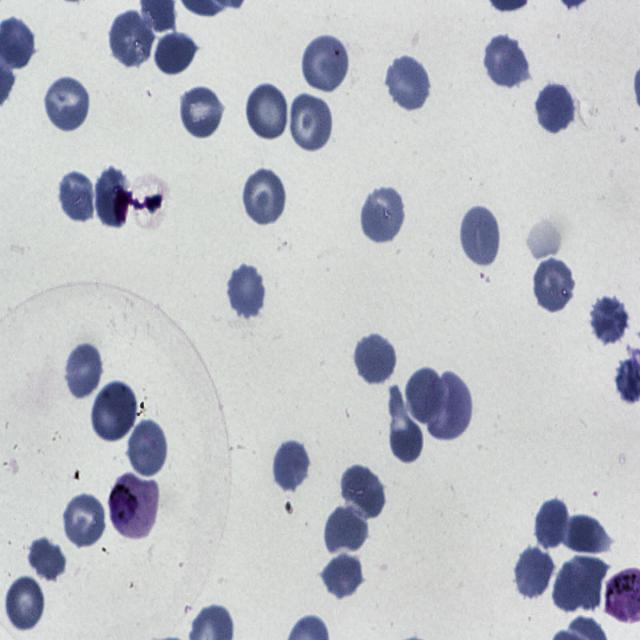red blood cell: (424, 372, 474, 443), (552, 556, 609, 613), (301, 31, 352, 94), (287, 90, 335, 154), (359, 182, 406, 246), (91, 380, 138, 444), (108, 8, 156, 70), (241, 164, 288, 227), (458, 202, 502, 269), (43, 73, 91, 134), (244, 80, 290, 142), (177, 82, 226, 140), (482, 33, 531, 91), (339, 463, 387, 522), (385, 54, 432, 113), (92, 164, 132, 231), (62, 490, 107, 549), (389, 388, 424, 463), (404, 365, 446, 427), (532, 256, 576, 315), (352, 331, 398, 387), (63, 340, 105, 401), (127, 419, 169, 479), (226, 262, 267, 322), (325, 505, 372, 556), (514, 545, 556, 602), (534, 80, 576, 136), (3, 576, 43, 634), (587, 292, 630, 345), (271, 438, 312, 493), (56, 168, 95, 225), (558, 515, 614, 554), (154, 32, 199, 78), (317, 556, 366, 598), (533, 498, 569, 552), (26, 536, 66, 582)
trophozoite: (109, 474, 160, 540)
